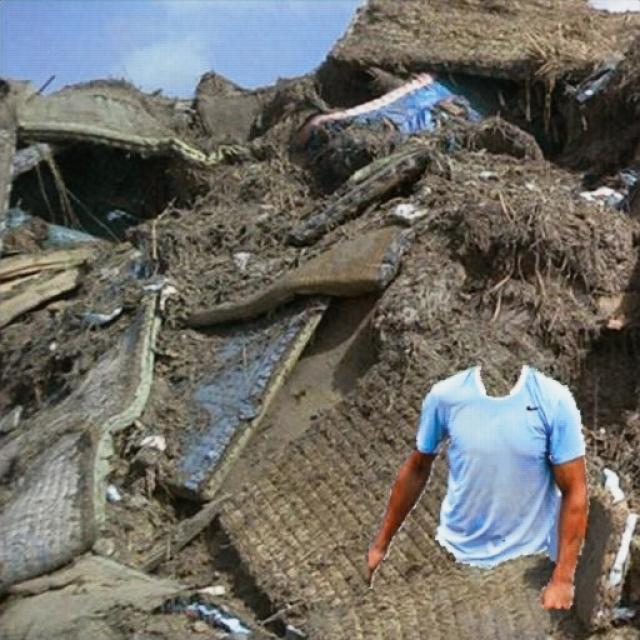Person in Rubble: (369, 364, 589, 608)
